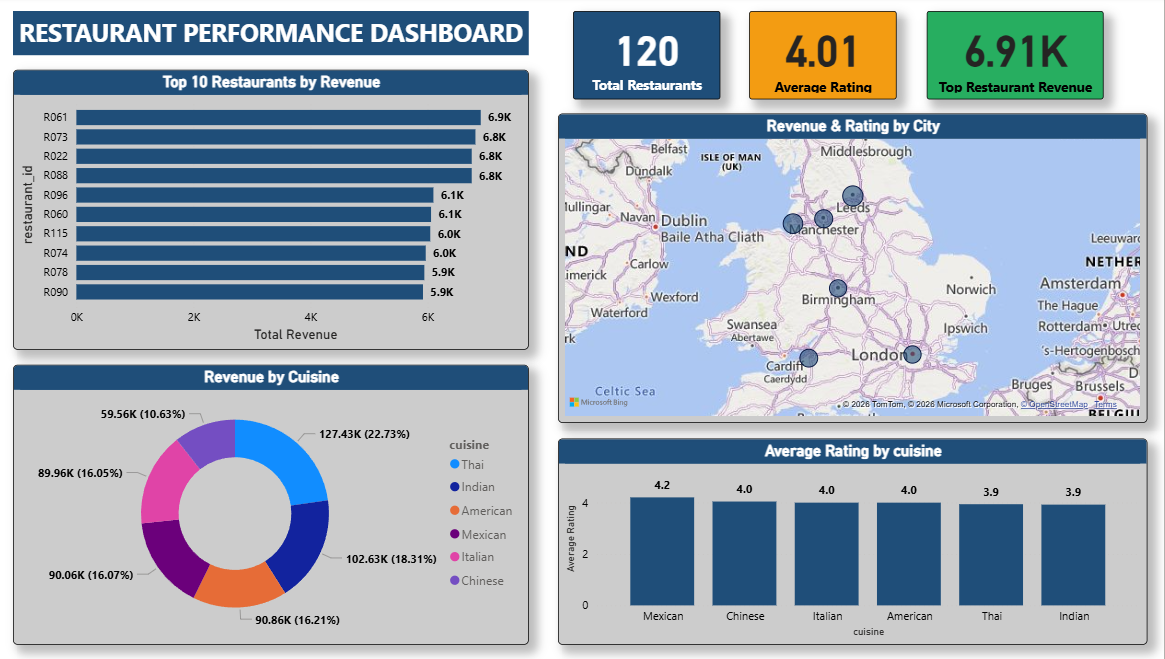

The page's visual inventory and layout, read from the dashboard file:
{"tool":"powerbi","page":{"name":"Restaurant Performance","canvas":[1266,720],"ordinal":1},"visuals":[{"type":"textbox","box":[16,16,560,48],"z":0},{"type":"card","fields":{"Values":["restaurants.Total Restaurants"]},"box":[624,16,160,96],"z":1},{"type":"card","fields":{"Values":["restaurants.Average Rating"]},"box":[816,16,160,96],"z":2},{"type":"card","fields":{"Values":["restaurants.Top Restaurant Revenue"]},"box":[1008,16,192,96],"z":3},{"type":"clusteredBarChart","title":"Top 10 Restaurants by Revenue","fields":{"Category":["restaurants.restaurant_id"],"Y":["order_items (2).Total Revenue"]},"box":[16,80,560,304],"z":4},{"type":"donutChart","title":"Revenue by Cuisine","fields":{"Category":["restaurants.cuisine"],"Y":["order_items (2).Total Revenue"]},"box":[16,400,560,304],"z":5},{"type":"clusteredColumnChart","fields":{"Y":["restaurants.Average Rating"],"Category":["restaurants.cuisine"]},"box":[608,480,640,224],"z":6},{"type":"map","title":"Revenue & Rating by City","fields":{"Category":["restaurants.city"],"Size":["order_items (2).Total Revenue"]},"box":[608,128,640,336],"z":7}]}

Visuals, with their boxes in screenshot pixels (x1, y1, x2, y2), scaled from the page's 1266x720 canvas onto the 1165x659 screenshot:
textbox: 15 15 530 59
card - restaurants.Total Restaurants: 574 15 721 103
card - restaurants.Average Rating: 751 15 898 103
card - restaurants.Top Restaurant Revenue: 928 15 1104 103
"Top 10 Restaurants by Revenue" clusteredBarChart: 15 73 530 351
"Revenue by Cuisine" donutChart: 15 366 530 644
clusteredColumnChart - restaurants.Average Rating x restaurants.cuisine: 559 439 1148 644
"Revenue & Rating by City" map: 559 117 1148 425
